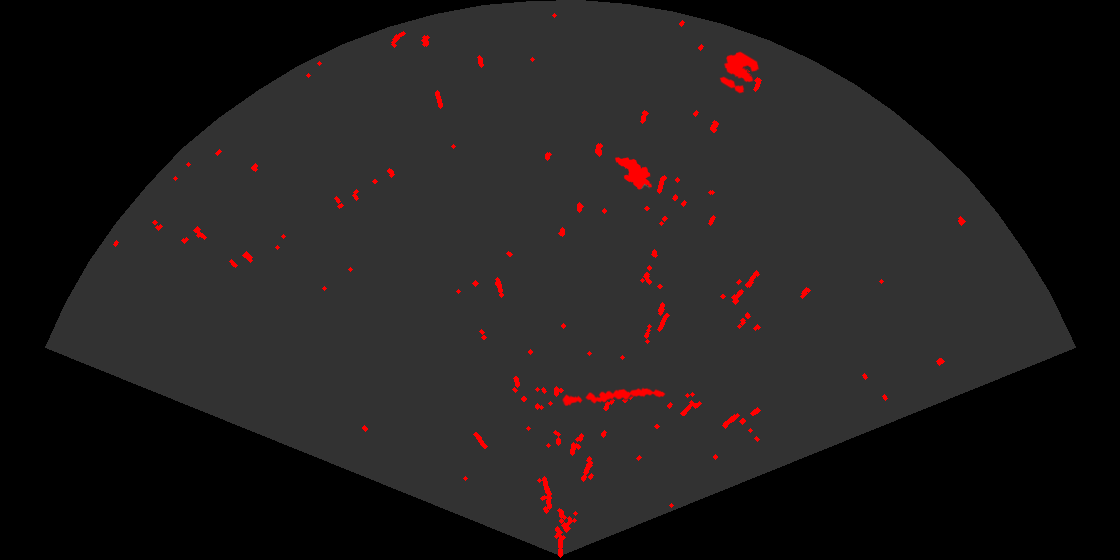AUV: (613, 156, 654, 191)
ball: (718, 50, 761, 95)
chain: (561, 386, 667, 408)
